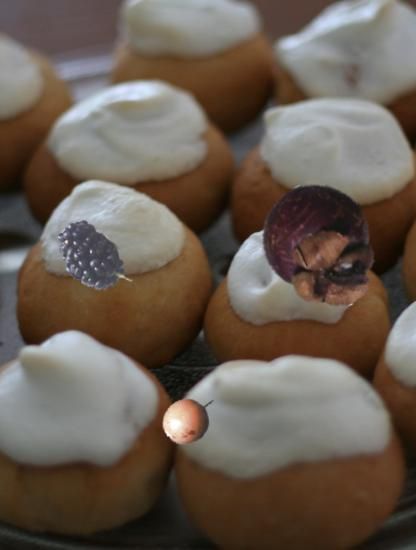Granadilla: (161, 389, 220, 448)
Mangostan: (254, 182, 386, 314)
Mulberry: (48, 218, 136, 306)
